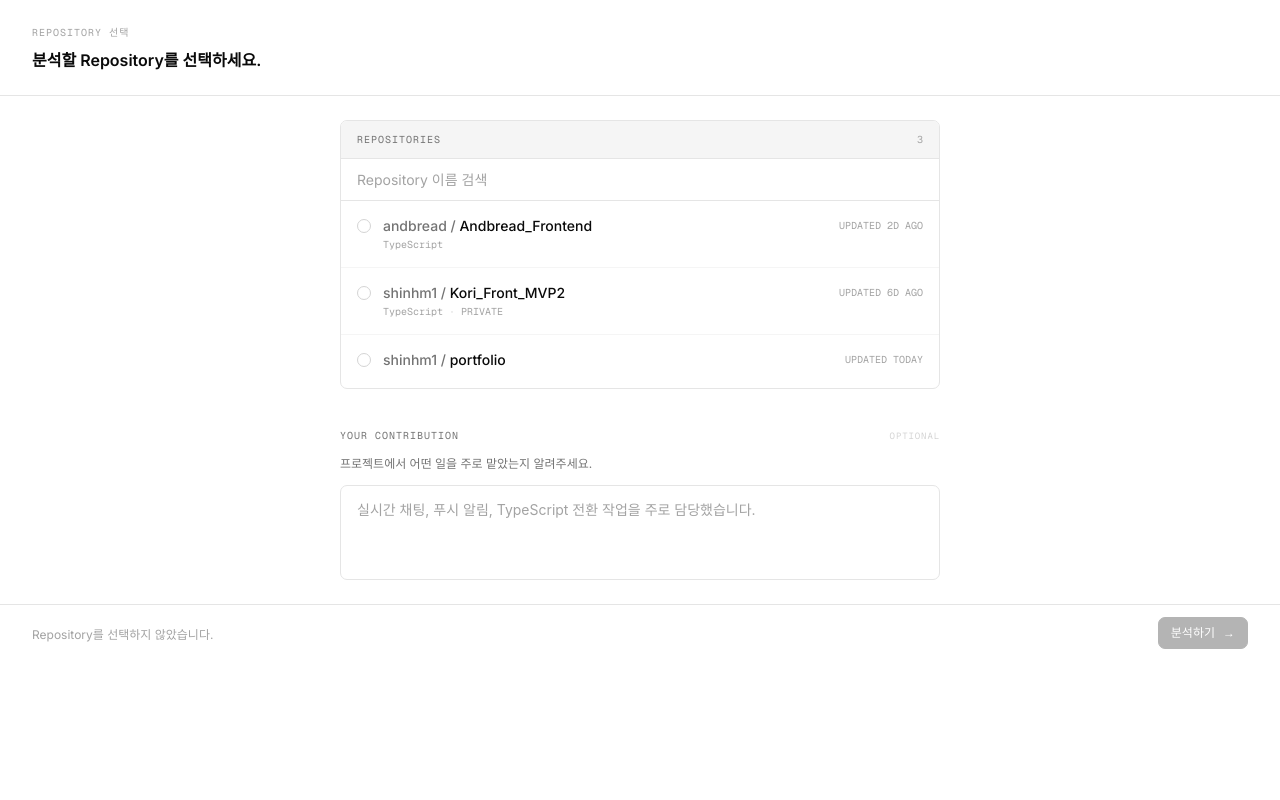
it: RepositorySelectScreen 선택과 Analyze › 행을 누르면 그 행만 선택되고 하단 바가 owner / name을 보여준다
Expected: the heading "분석할 Repository를 선택하세요." is shown, [32,50,261,70]
Click the radio button labelled "andbread / Andbread_Frontend TypeScript UPDATED 2D AGO".
click(415, 226)  # box [341,201,939,267]
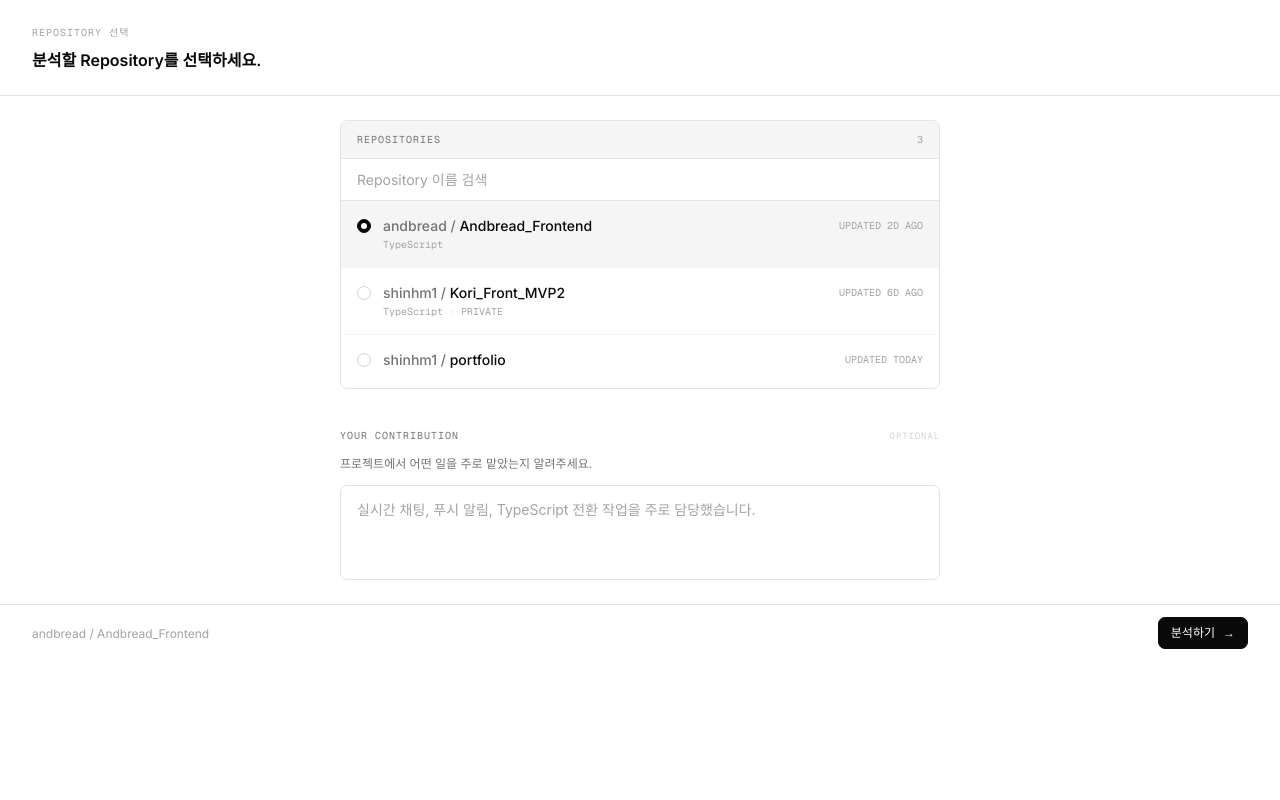
Click the radio button labelled "Kori_Front_MVP2".
click(410, 292)  # box [341,268,939,334]
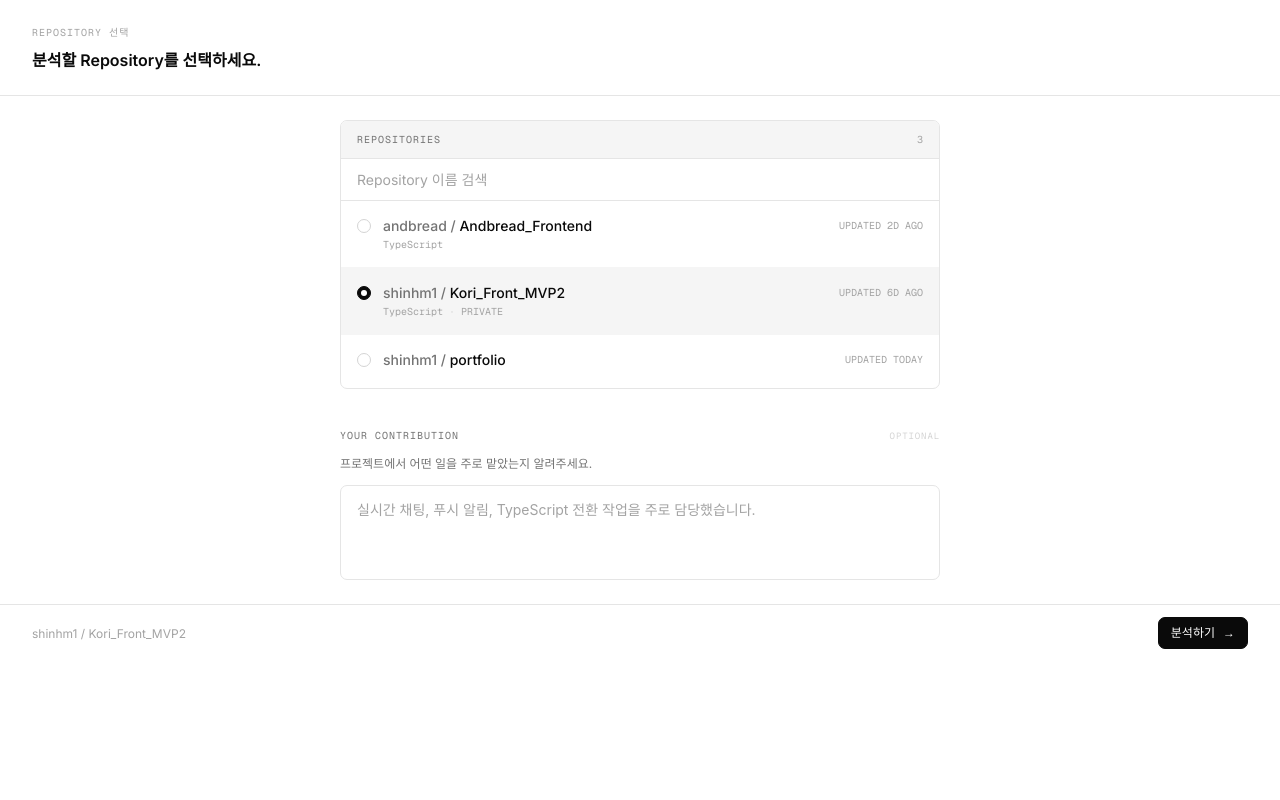
Expected: the button "분석하기 →" is enabled, [1158,617,1248,649]
Expected: the text "shinhm1 / Kori_Front_MVP2" is shown, [32,626,186,641]
